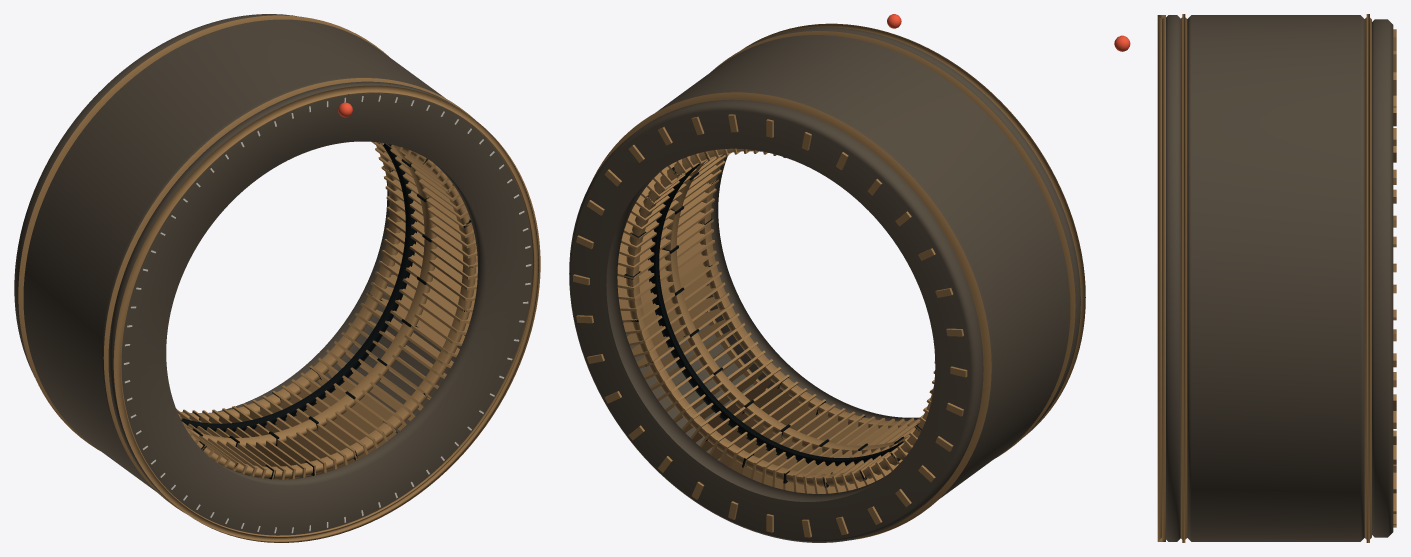
File: heliot-01.glb
3 renders of one model, left to right at view 1: azimuth 30°, elevation 25°; view 2: azimuth 150°, elevation 25°; view 3: azimuth 270°, elevation 25°, orthographic. The views are drawn at different scales.
Parts seen in each view (by area): view 1: FrontCrown, Housing, FocusRing, FrontGlass, Mount, Doublet, Iris, RearGlass; view 2: Housing, Mount, FocusRing, FrontCrown, RearGlass, Doublet, Iris, FrontGlass; view 3: Housing, FrontCrown, Mount.
Boxes of the visible parts, x1,y1,x2,y2 form: FrontCrown: (108, 81, 540, 542); Housing: (18, 15, 474, 513); FocusRing: (176, 141, 477, 479); FrontGlass: (184, 143, 476, 479); Mount: (14, 14, 394, 411); Doublet: (188, 146, 436, 447); Iris: (181, 143, 416, 432); RearGlass: (178, 142, 401, 420); Housing: (590, 31, 1075, 540); Mount: (569, 99, 983, 542); FocusRing: (617, 148, 935, 493); FrontCrown: (706, 14, 1085, 437); RearGlass: (624, 148, 933, 487); Doublet: (662, 160, 908, 454); Iris: (648, 164, 903, 466); FrontGlass: (698, 154, 920, 428); Housing: (1180, 14, 1371, 542); FrontCrown: (1114, 15, 1180, 541); Mount: (1372, 19, 1396, 537).
Bounding box in the file's own units: 2.41 × 2.42 × 1.29.
